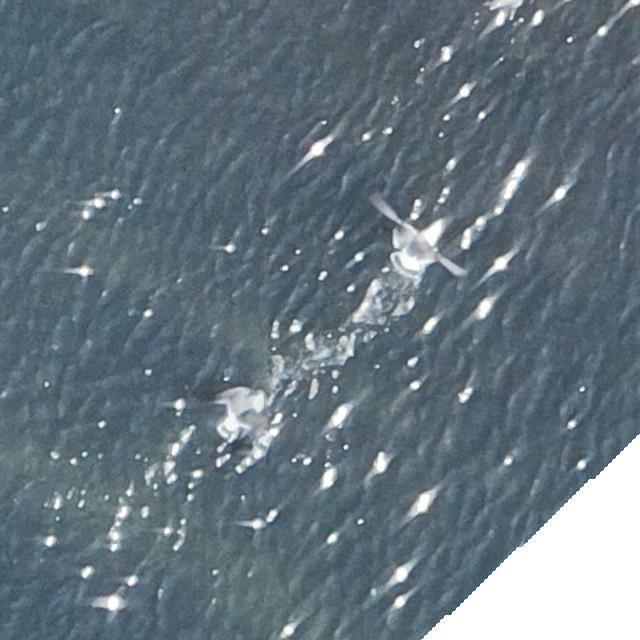F: (387, 214, 462, 280)
